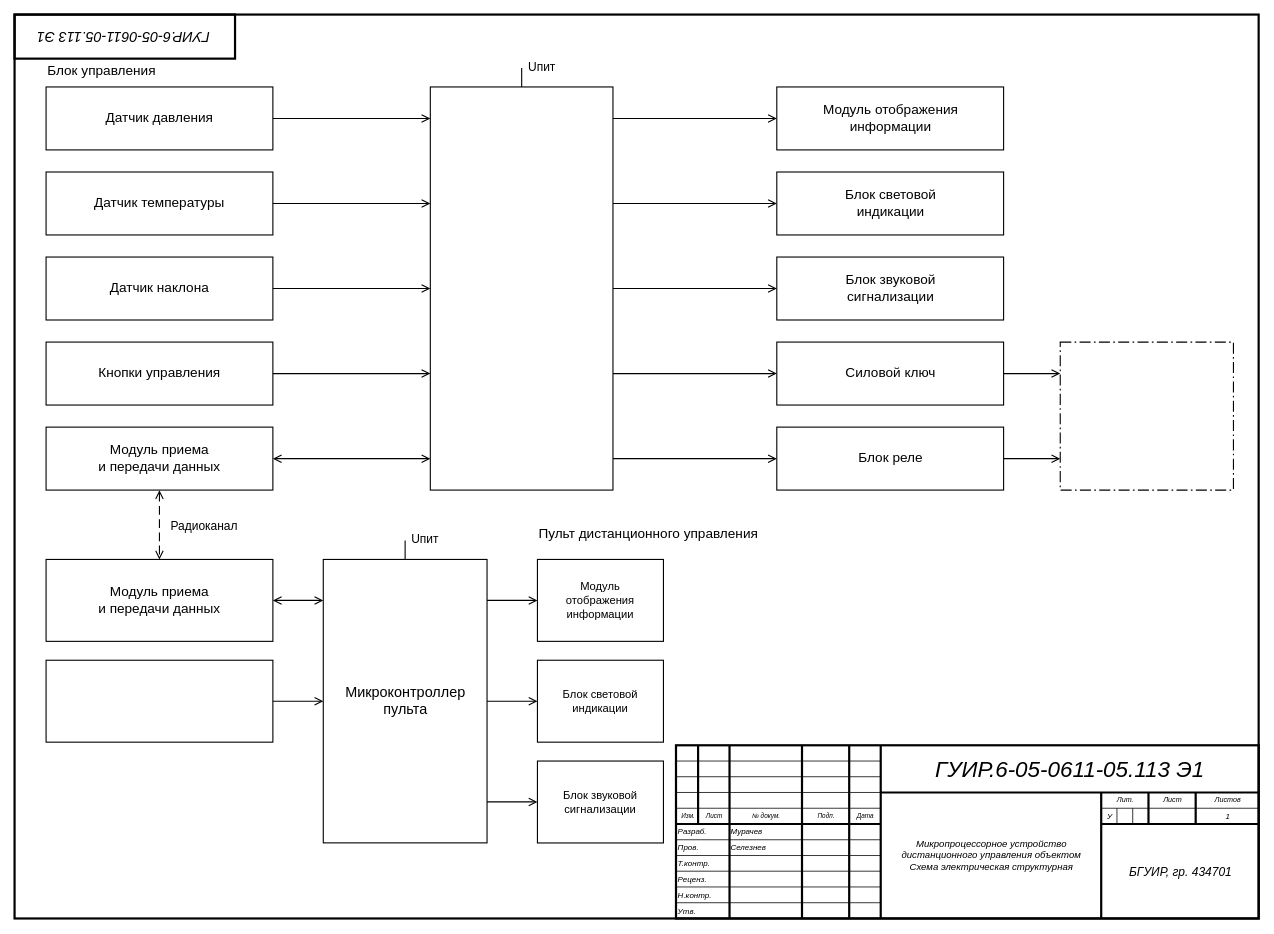
Some shapes in this 1274 by 934 pixel diagram are drawn without their labels. Here are the shapes that lost their labels. From the top down, the box of each, then its label:
(429, 86, 613, 490): Микроконтроллер блока управления
(1059, 341, 1234, 490): Объект управления
(45, 659, 273, 742): Кнопки управления пульта
